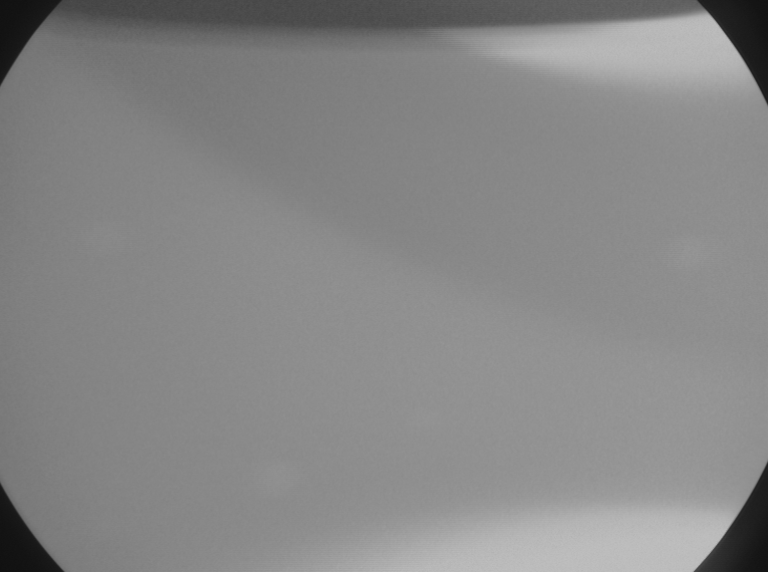defect: (82, 216, 114, 254)
